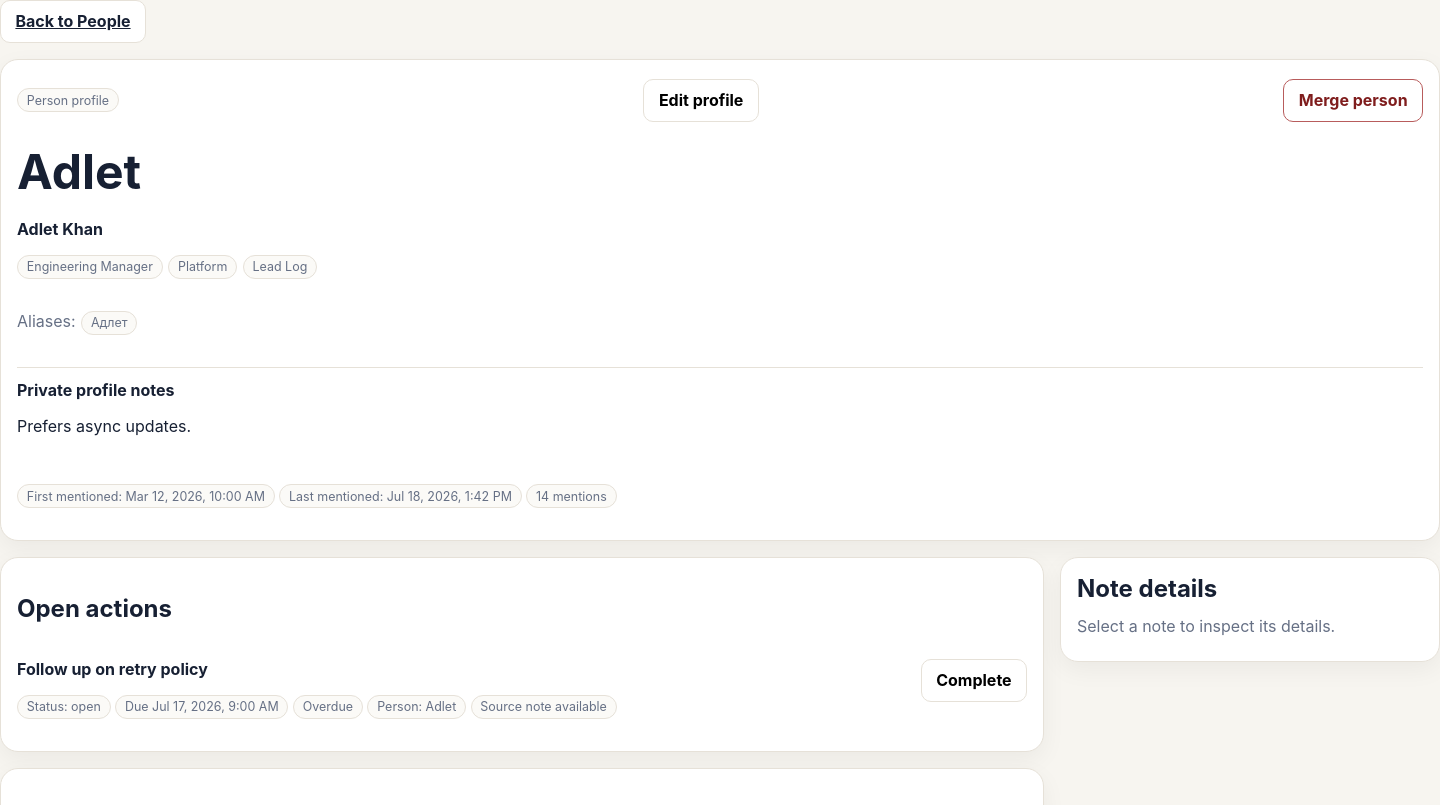
PersonDetailPage › searches, reviews conflicts, previews aliases, submits merge, closes, and redirects canonical route
Check: the heading "Adlet" is shown, box [17,142,141,201]
Click the button "Merge person" at (1353, 100), box [1283,79,1423,122]
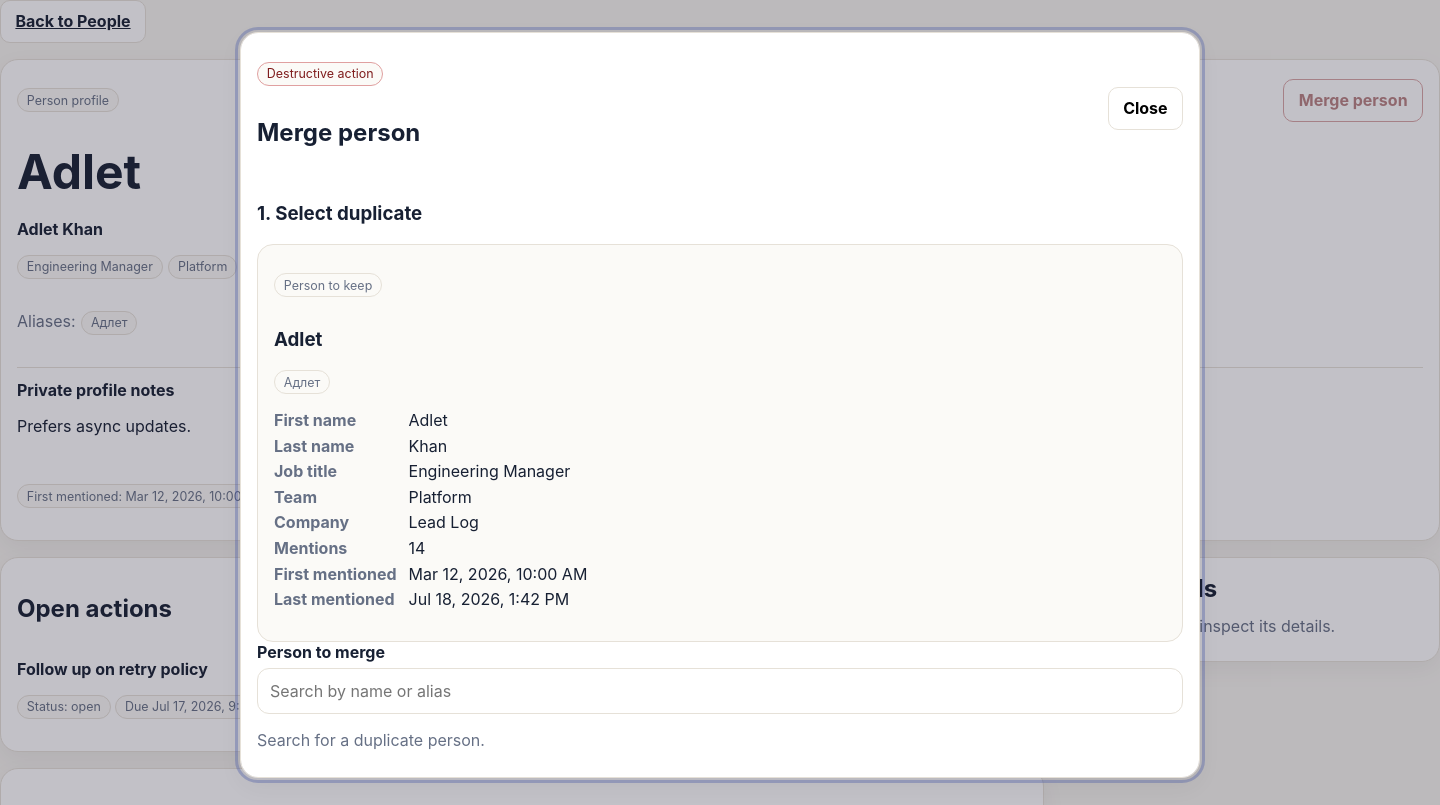
Check: the dialog "Merge person" is shown
Check: the text "Person to keep" is shown, box [274,273,382,297]
Type "Ad" into the field with placeholder "Search by name or alias" at (720, 691), box [257,668,1183,714]
(page scrolled)
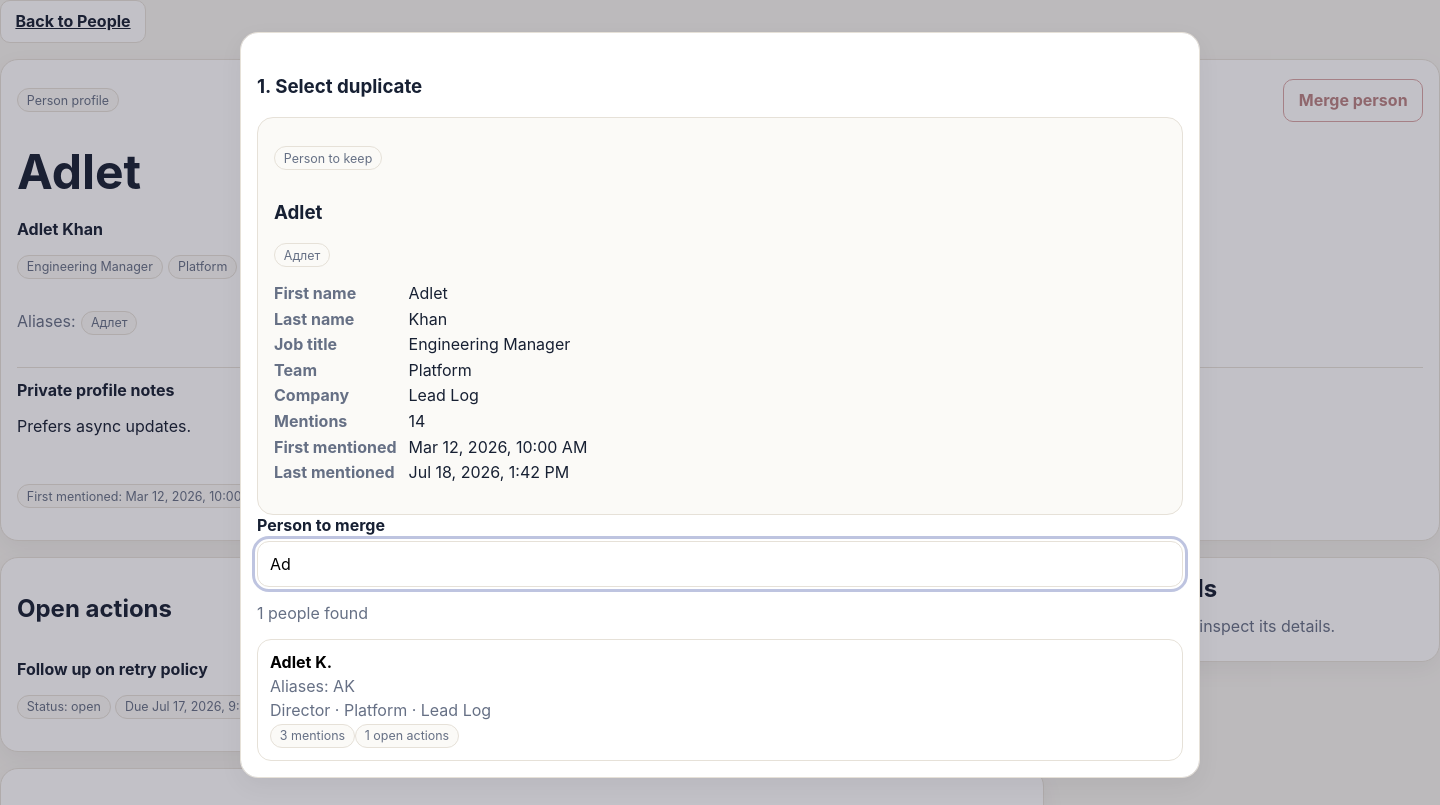
Check: the option "Adlet K" is shown
Check: no headings "Adlet" are shown
Click the option "Adlet K" at (301, 662), box [257,639,1183,761]
(page scrolled)
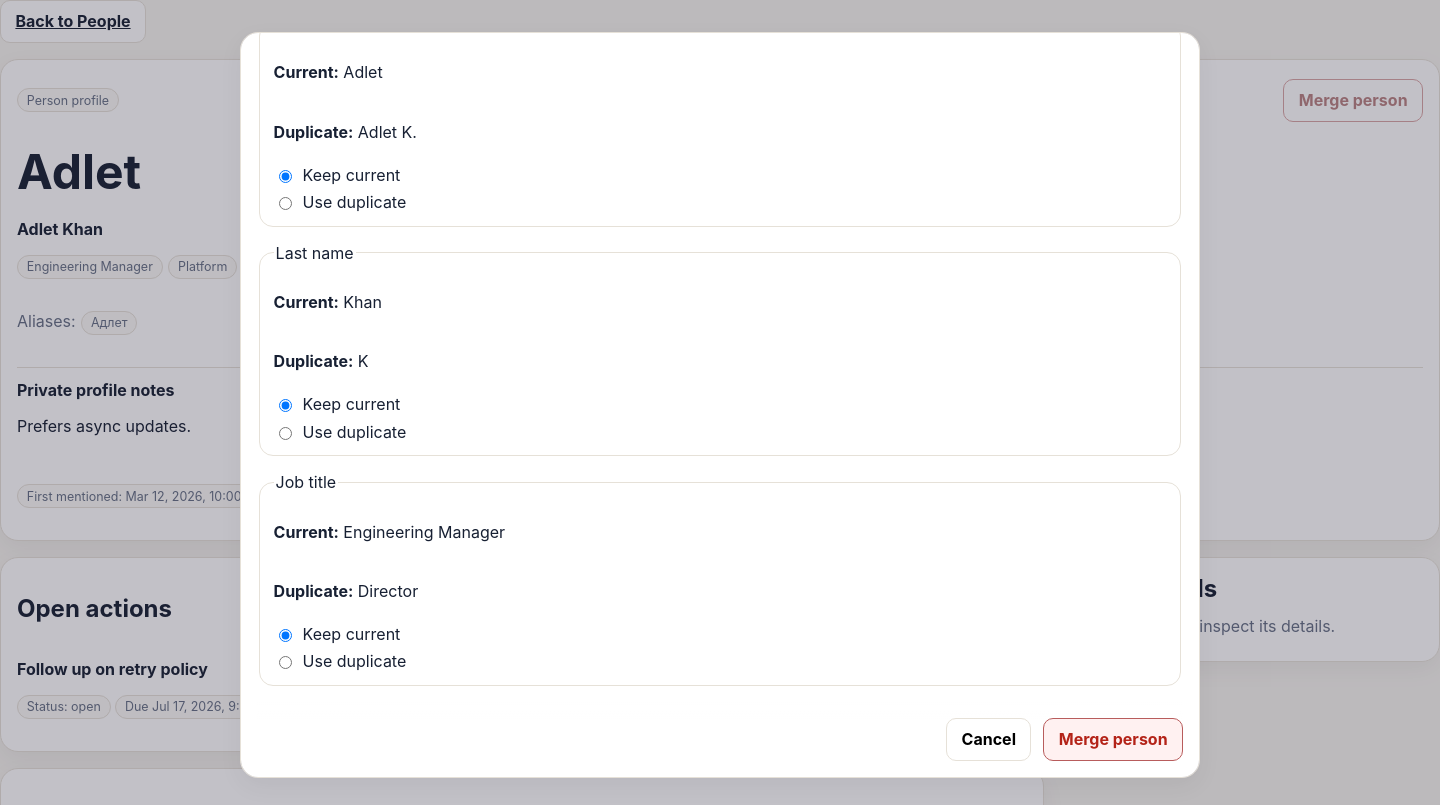
Click the radio button labelled "Use duplicate" below "Last name" at (285, 433), box [279,427,292,440]
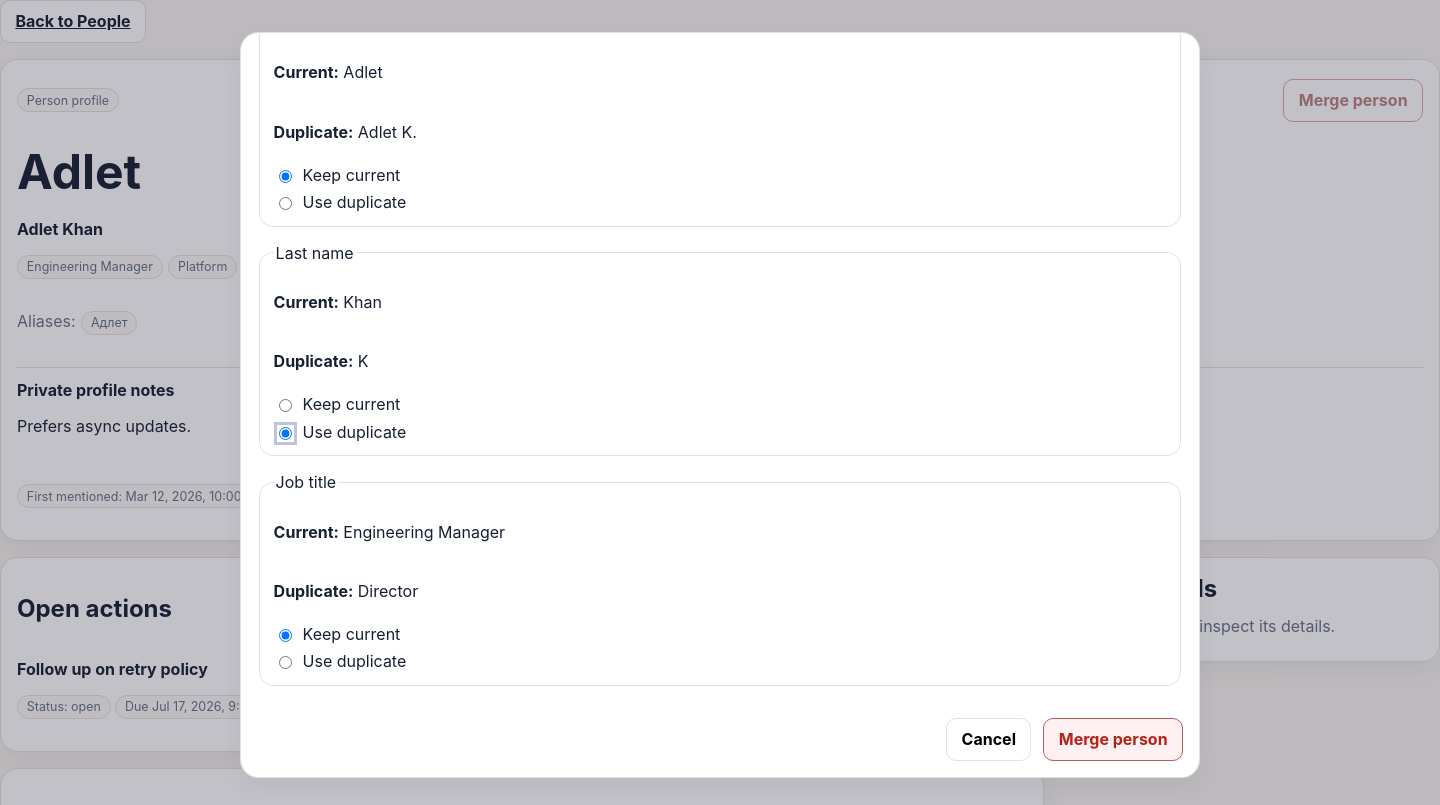
Click the button "Merge person" at (1113, 739), box [1043,718,1183,761]
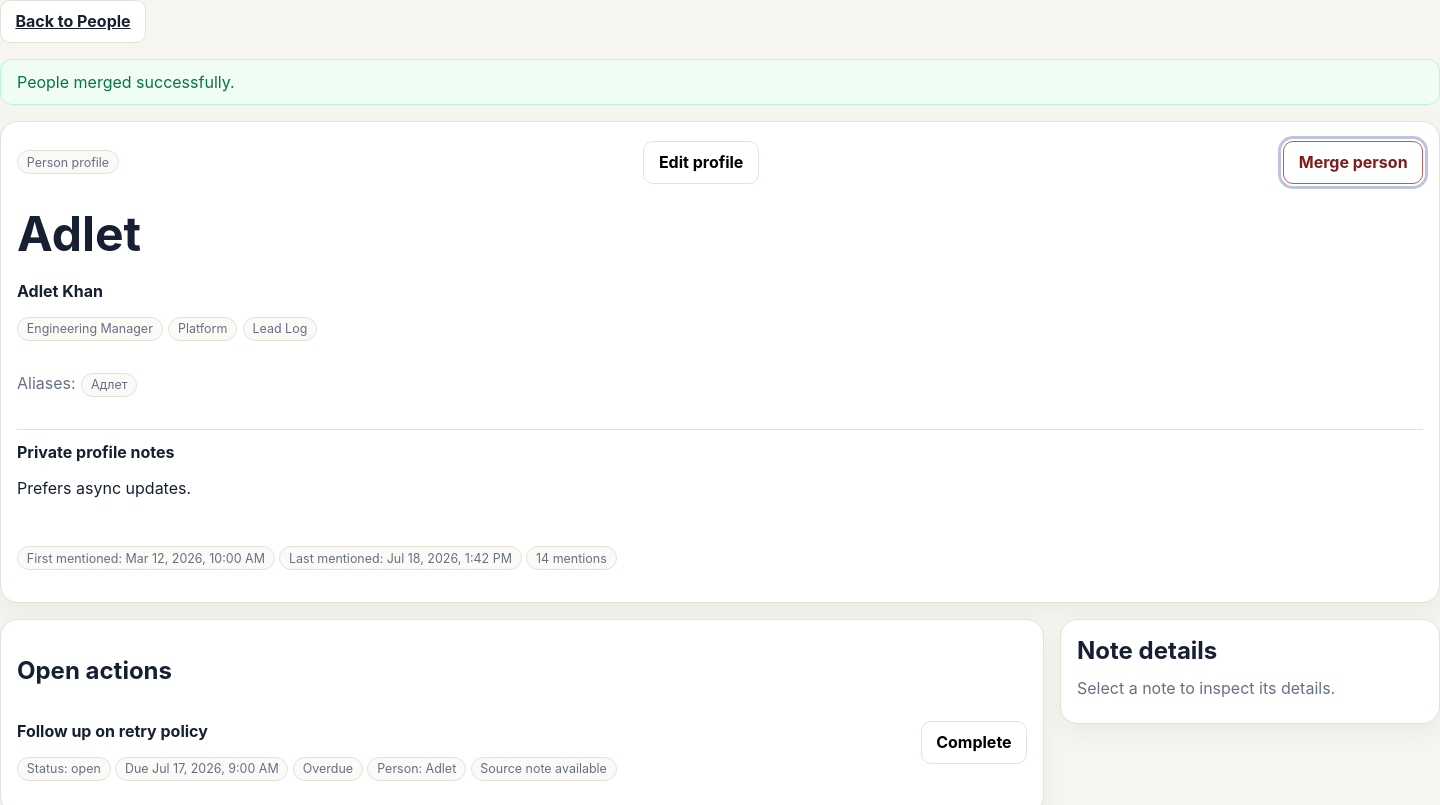
Check: the message reads "People merged successfully.", box [17,72,235,92]
